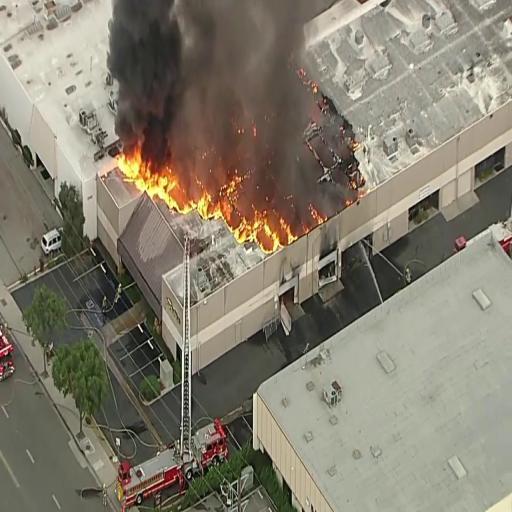fire: (120, 140, 175, 197), (235, 212, 271, 247), (191, 194, 219, 222)
smoke: (105, 0, 180, 127)
